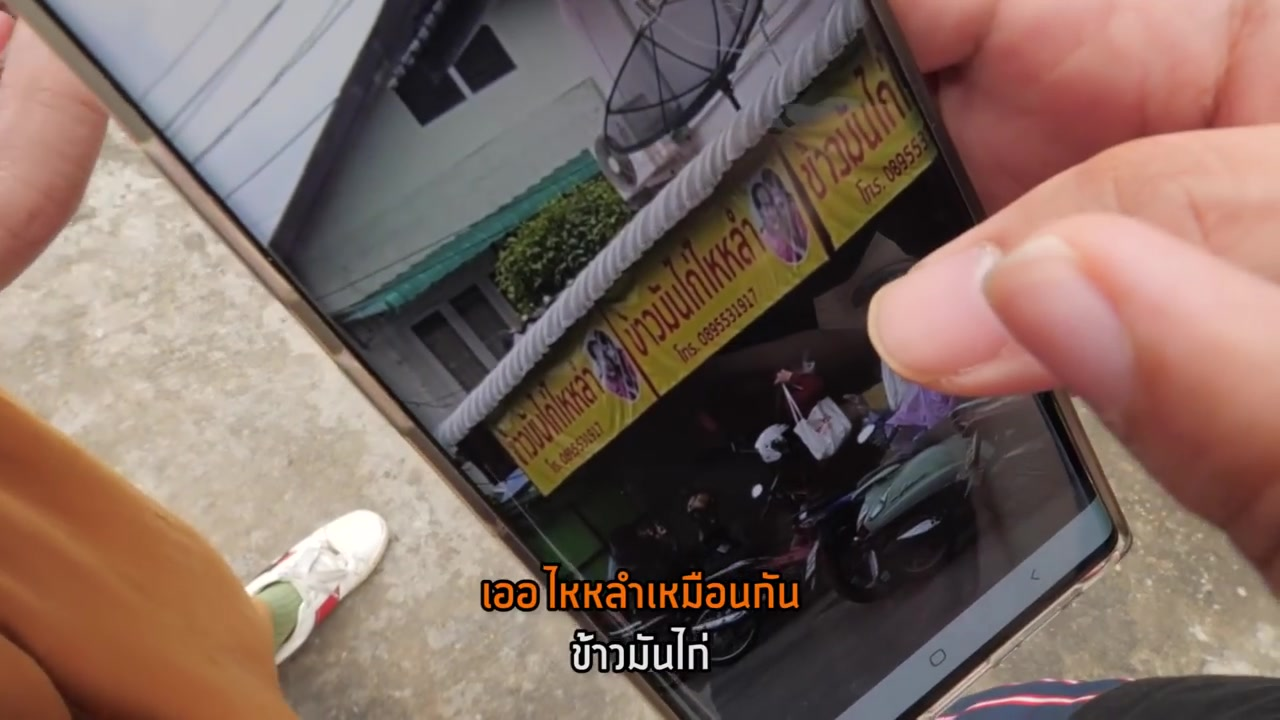text-label: (475, 560, 805, 611), (568, 623, 710, 672)
